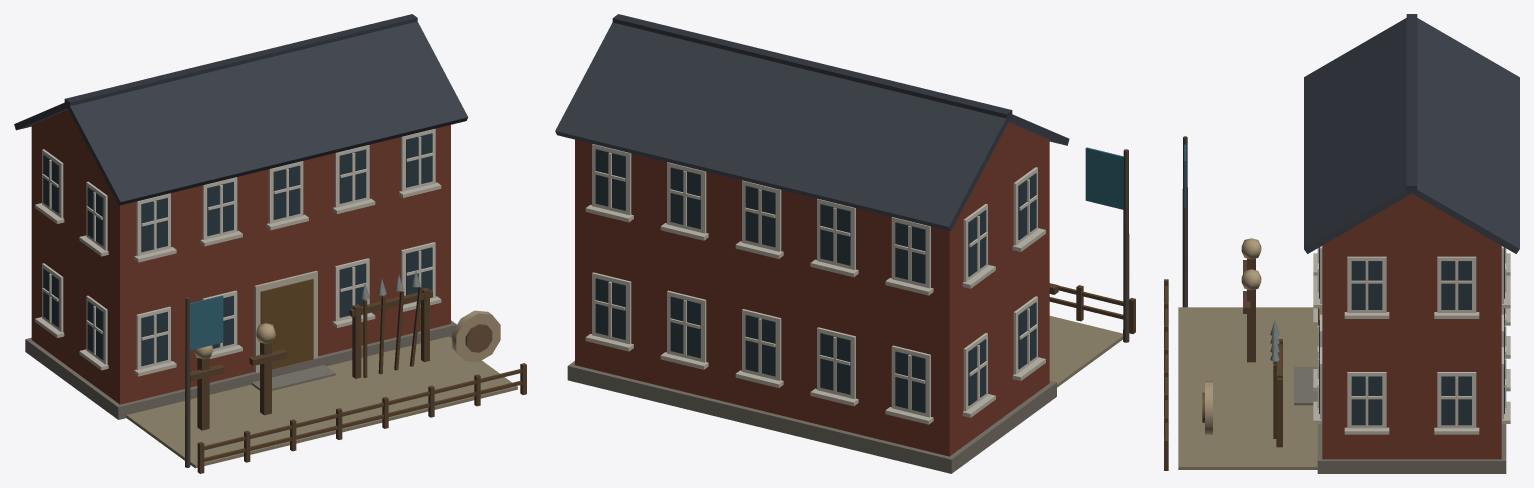
File: procedural_barracks@5.glb
3 views of the same model, side by side, from view 1: azimuth 30°, elevation 25°; view 2: azimuth 150°, elevation 25°; view 3: azimuth 270°, elevation 25° (orthographic). The views are drawn at different scales.
Visible parts, largest first — view 1: part_0; view 2: part_0; view 3: part_0.
Boxes of the visible parts, box(x1,y1,x2,y2) form: part_0: box(14, 14, 526, 473); part_0: box(555, 14, 1135, 473); part_0: box(1164, 14, 1519, 473).
Bounding box in the file's own units: 8.62 × 6.79 × 7.54.
